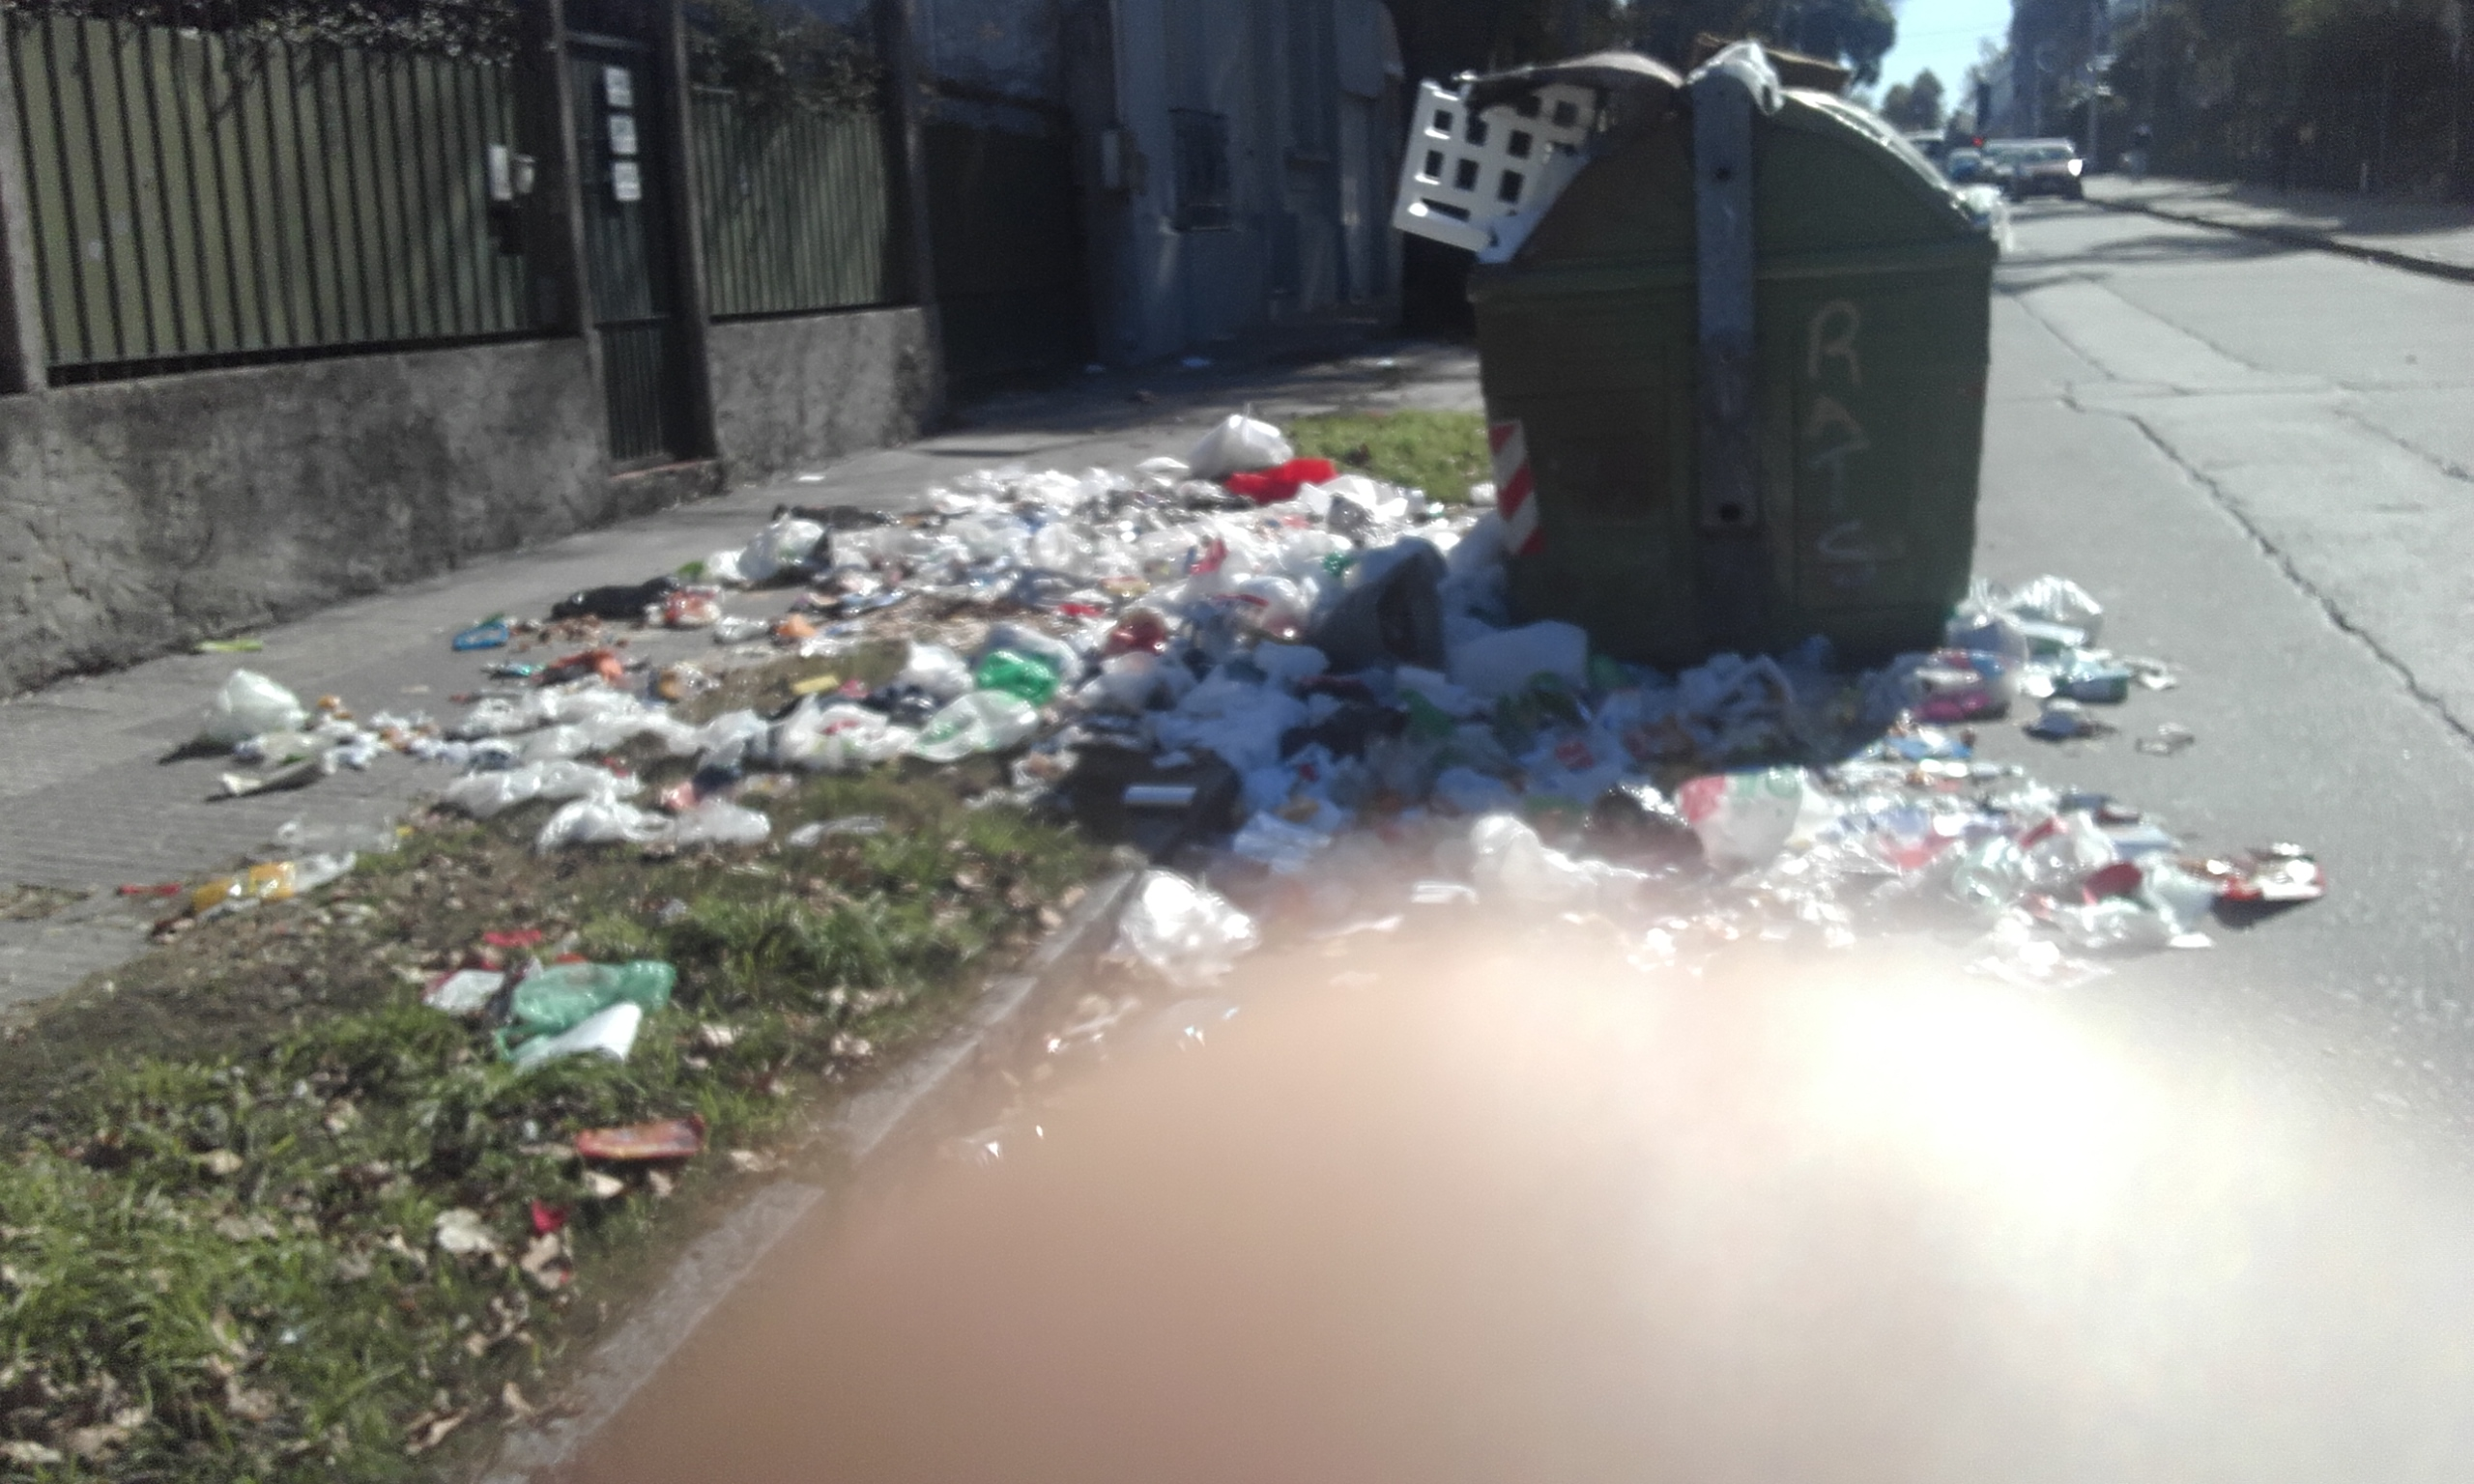container: (1442, 46, 2011, 677)
